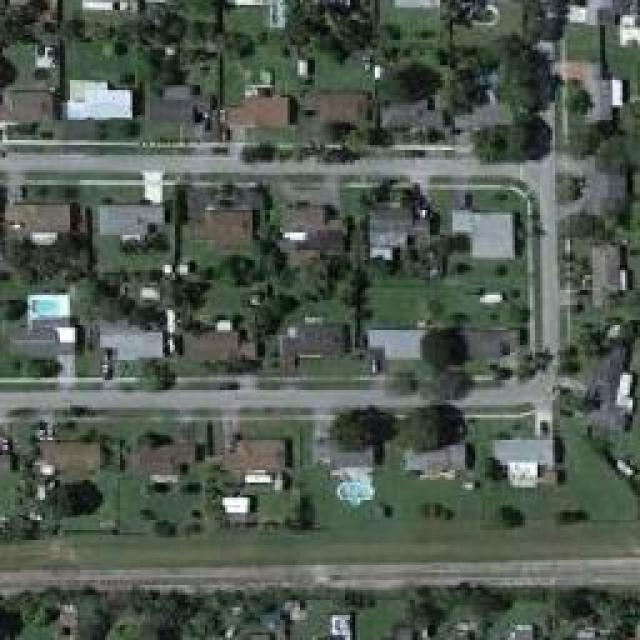City: (0, 0, 638, 575)
